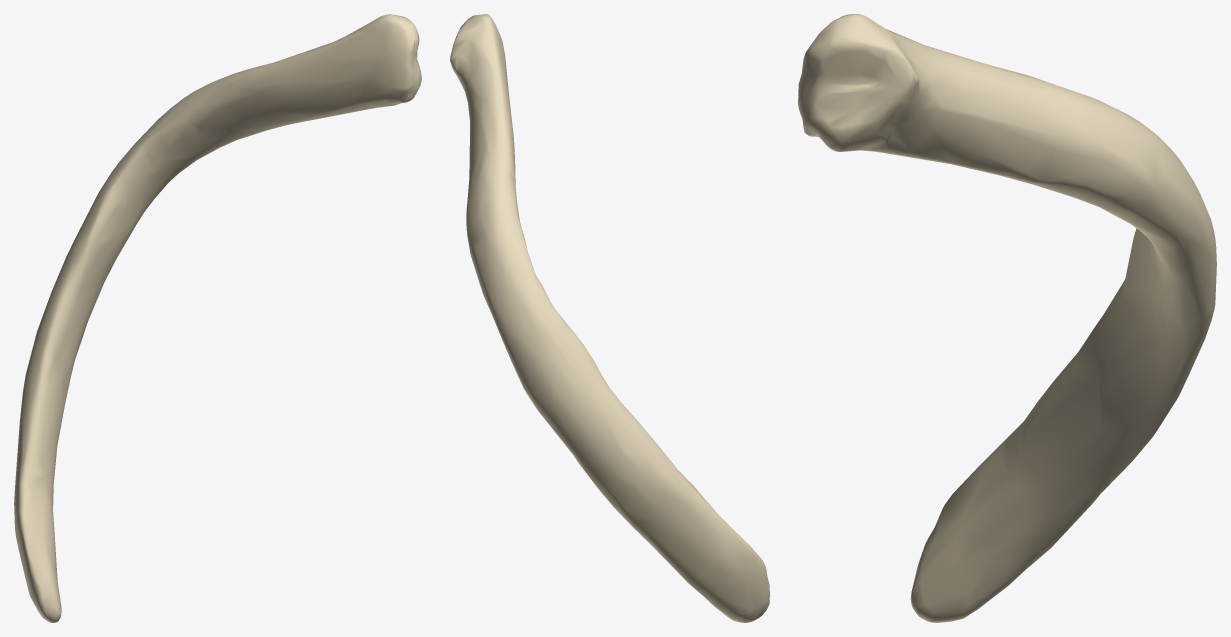
File: esqueleto-twelfth-rib-r.glb
The picture shows the model from 3 angles, left to right: view 1: azimuth 30°, elevation 25°; view 2: azimuth 150°, elevation 25°; view 3: azimuth 270°, elevation 25°; orthographic projection. The views are drawn at different scales.
Visible parts, largest first — view 1: Twelfth rib.r; view 2: Twelfth rib.r; view 3: Twelfth rib.r.
Part boxes in pixels (left/top/right/bottom): Twelfth rib.r: left=14, top=14, right=421, bottom=622; Twelfth rib.r: left=450, top=14, right=769, bottom=622; Twelfth rib.r: left=798, top=14, right=1216, bottom=622.
Bounding box in the file's own units: 0.066 × 0.0979 × 0.0444.
